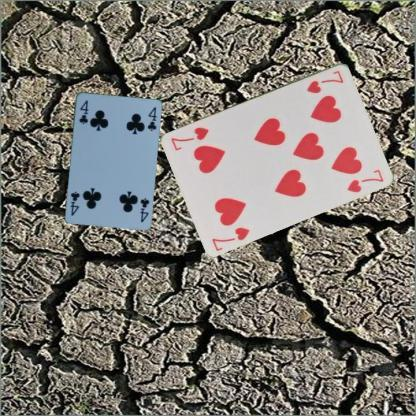4c: (76, 98, 90, 126), (138, 196, 150, 223)
7h: (209, 224, 251, 252), (304, 67, 345, 95)
